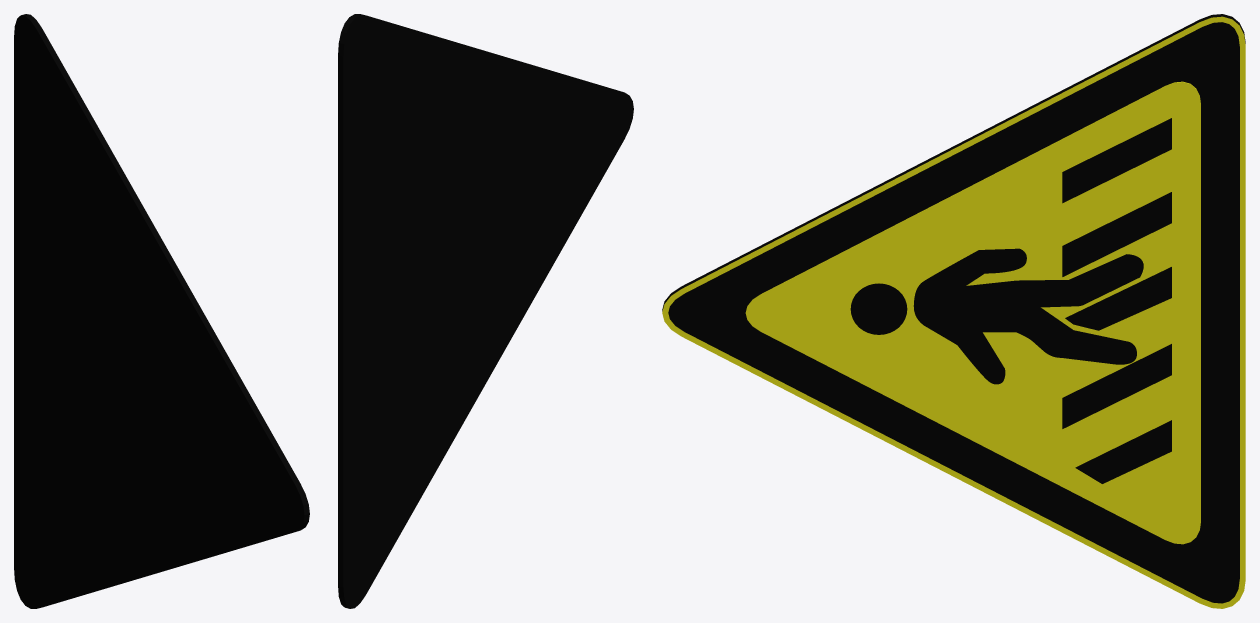
File: 注意行人.gltf
The picture shows the model from 3 angles, left to right: view 1: azimuth 30°, elevation 25°; view 2: azimuth 150°, elevation 25°; view 3: azimuth 270°, elevation 25°; orthographic projection.
Visible parts, largest first — view 1: 平面.001; view 2: 平面.001; view 3: 平面.003, 平面.001, BezierCurve.005.
Part boxes in pixels (box(x1,y1,x2,y2)): 平面.001: box(14, 14, 309, 608); 平面.001: box(338, 14, 633, 608); 平面.003: box(745, 81, 1200, 544); 平面.001: box(662, 14, 1245, 608); BezierCurve.005: box(850, 118, 1171, 483).
Size of the model in its own units: 0.0109 by 0.9304 by 0.8307.
